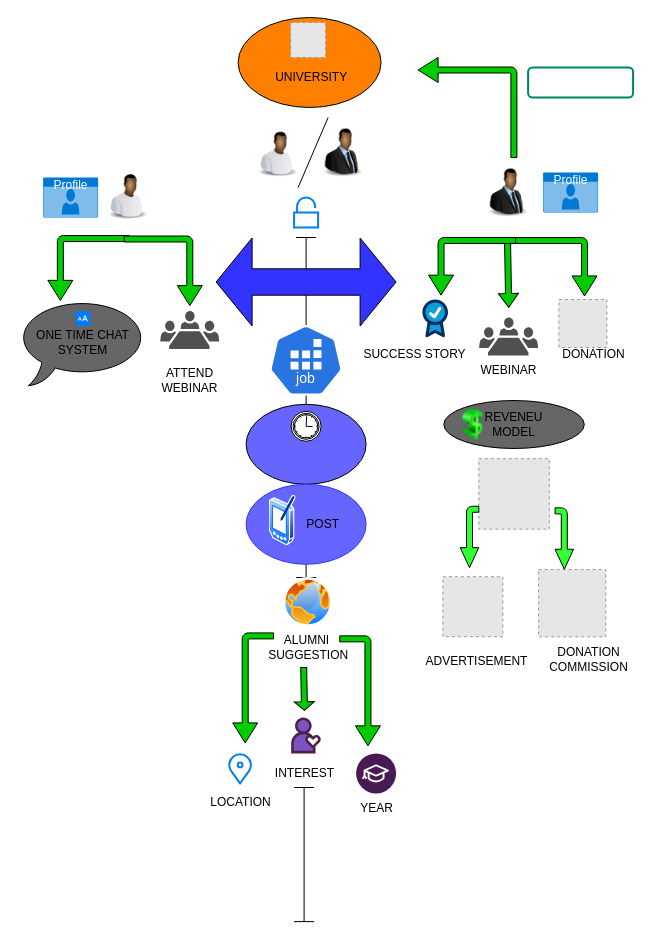
Image size: 656x940. Some labels were removed from this diagram. Grey dashed boxes stand in for pictures. Here are the shapes that lost their labels. From the top down, the centre of each, then its label:
At [580,82]: "FEEDBACK".
At [305,281]: "CONNECT".
At [305,443]: "EVENTS AND REUNIONS".
